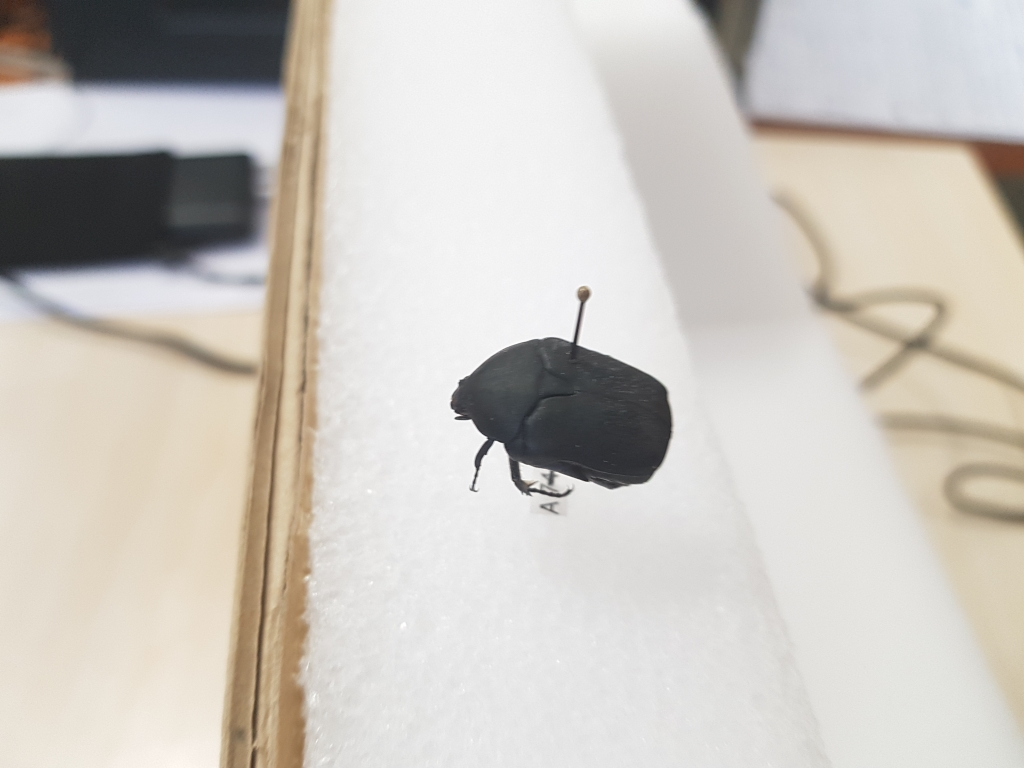Protaetia_afflicta: (436, 330, 688, 503)
